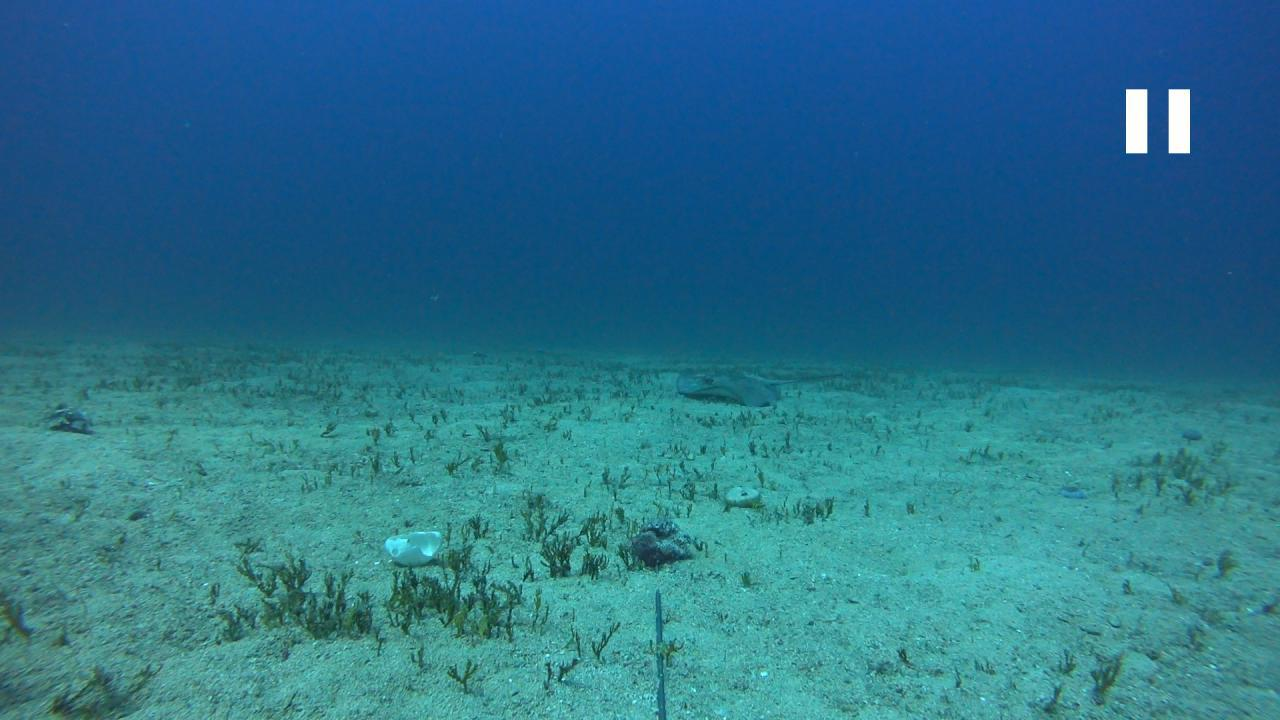dasyatis: (675, 367, 848, 404)
